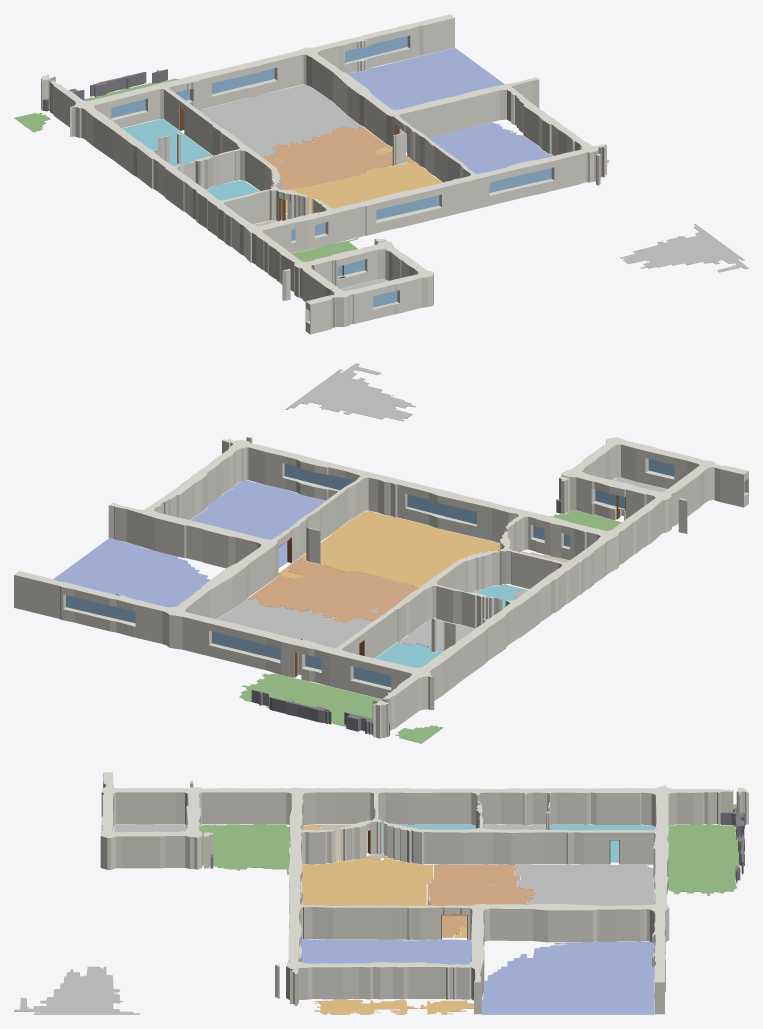
The picture shows the model from 3 angles, top to bottom: view 1: azimuth 30°, elevation 25°; view 2: azimuth 150°, elevation 25°; view 3: azimuth 270°, elevation 25°; orthographic projection. The views are drawn at different scales.
Visible parts, largest first — view 1: walls, floor_21_Undefined, floor_10_Bed_Room, floor_8_Living_Room, floor_9_Bed_Room, floor_5_Kitchen, floor_16_Undefined, floor_12_Bath, railings, window_9, window_11, window_7 (+3 smaller); view 2: walls, floor_5_Kitchen, floor_10_Bed_Room, floor_8_Living_Room, floor_9_Bed_Room, floor_21_Undefined, floor_16_Undefined, floor_2_Outdoor, railings, floor_12_Bath, floor_20_Undefined, window_10 (+4 smaller); view 3: walls, floor_10_Bed_Room, floor_5_Kitchen, floor_21_Undefined, floor_2_Outdoor, floor_8_Living_Room, floor_9_Bed_Room, floor_0_Outdoor, floor_16_Undefined, floor_7_Kitchen, floor_12_Bath, railings (+1 smaller).
Boxes of the visible parts, x1=… form: walls: x1=41, y1=14, x2=606, y2=334; floor_21_Undefined: x1=200, y1=84, x2=359, y2=157; floor_10_Bed_Room: x1=347, y1=48, x2=504, y2=109; floor_8_Living_Room: x1=262, y1=124, x2=412, y2=189; floor_9_Bed_Room: x1=406, y1=122, x2=553, y2=173; floor_5_Kitchen: x1=281, y1=161, x2=442, y2=217; floor_16_Undefined: x1=620, y1=224, x2=748, y2=272; floor_12_Bath: x1=122, y1=119, x2=212, y2=165; railings: x1=42, y1=69, x2=167, y2=111; window_9: x1=345, y1=36, x2=407, y2=62; window_11: x1=489, y1=168, x2=551, y2=192; window_7: x1=212, y1=68, x2=274, y2=93; walls: x1=14, y1=436, x2=748, y2=738; floor_5_Kitchen: x1=300, y1=511, x2=499, y2=588; floor_10_Bed_Room: x1=53, y1=538, x2=210, y2=607; floor_8_Living_Room: x1=245, y1=558, x2=418, y2=622; floor_9_Bed_Room: x1=190, y1=480, x2=326, y2=567; floor_21_Undefined: x1=217, y1=597, x2=372, y2=647; floor_16_Undefined: x1=285, y1=363, x2=415, y2=421; floor_2_Outdoor: x1=239, y1=673, x2=382, y2=726; railings: x1=251, y1=499, x2=561, y2=735; floor_12_Bath: x1=375, y1=642, x2=442, y2=667; floor_20_Undefined: x1=399, y1=619, x2=474, y2=650; window_10: x1=407, y1=494, x2=476, y2=524; walls: x1=100, y1=772, x2=748, y2=1014; floor_10_Bed_Room: x1=481, y1=941, x2=654, y2=1014; floor_5_Kitchen: x1=301, y1=858, x2=446, y2=906; floor_21_Undefined: x1=513, y1=865, x2=654, y2=905; floor_2_Outdoor: x1=668, y1=824, x2=740, y2=895; floor_8_Living_Room: x1=427, y1=864, x2=535, y2=937; floor_9_Bed_Room: x1=300, y1=939, x2=471, y2=964; floor_0_Outdoor: x1=200, y1=824, x2=289, y2=874; floor_16_Undefined: x1=14, y1=966, x2=139, y2=1014; floor_7_Kitchen: x1=314, y1=999, x2=473, y2=1014; floor_12_Bath: x1=550, y1=825, x2=655, y2=862; railings: x1=210, y1=807, x2=745, y2=883.
Size of the model in its own units: 38.1 by 2.72 by 56.32.
